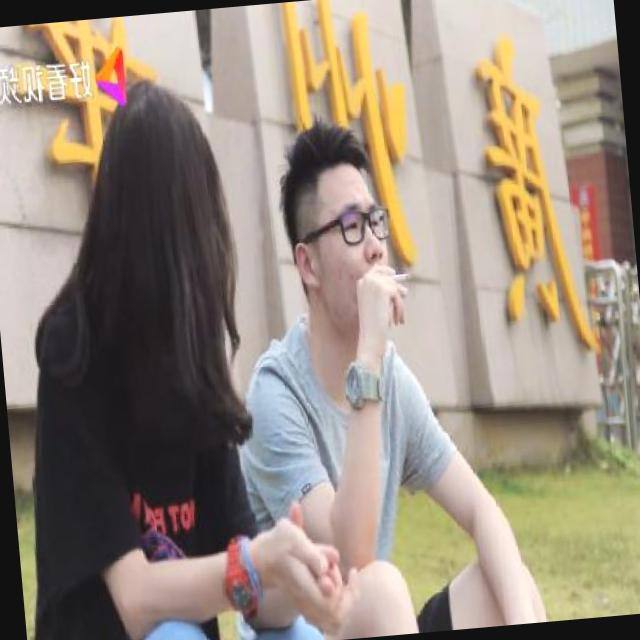cigarette: (382, 261, 416, 293)
